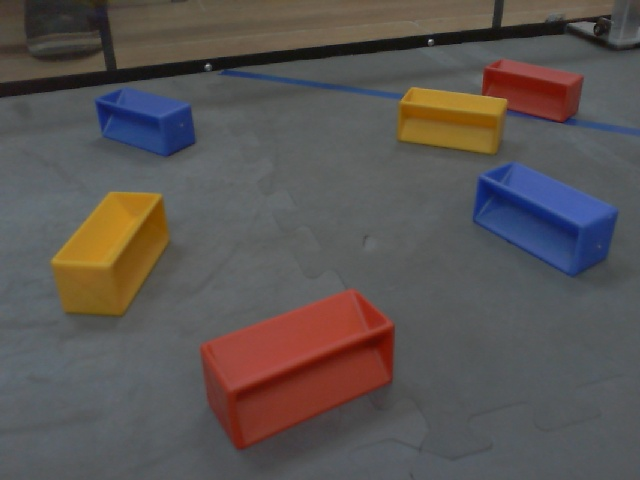BlueSample: (470, 162, 618, 279), (90, 84, 198, 160)
RedSample: (197, 289, 401, 452), (478, 58, 587, 124)
YellowSample: (49, 189, 173, 319), (390, 84, 510, 158)
